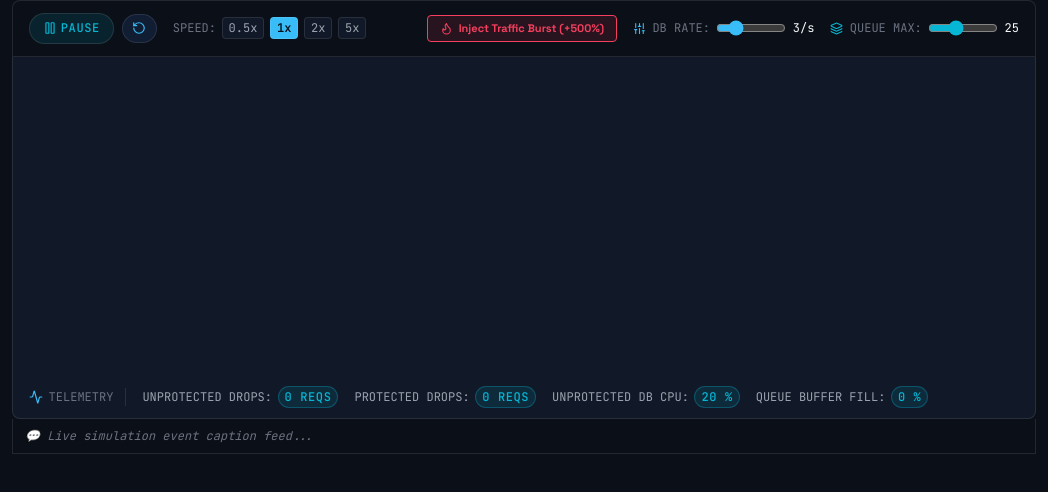
Test: LoadLevelingVisualizer (Catalog Viz #8) › handles Traffic Burst injection and updates telemetry
Click the button "Inject Traffic Burst (+500%)". click: (522, 28)
box: [427,15,617,42]
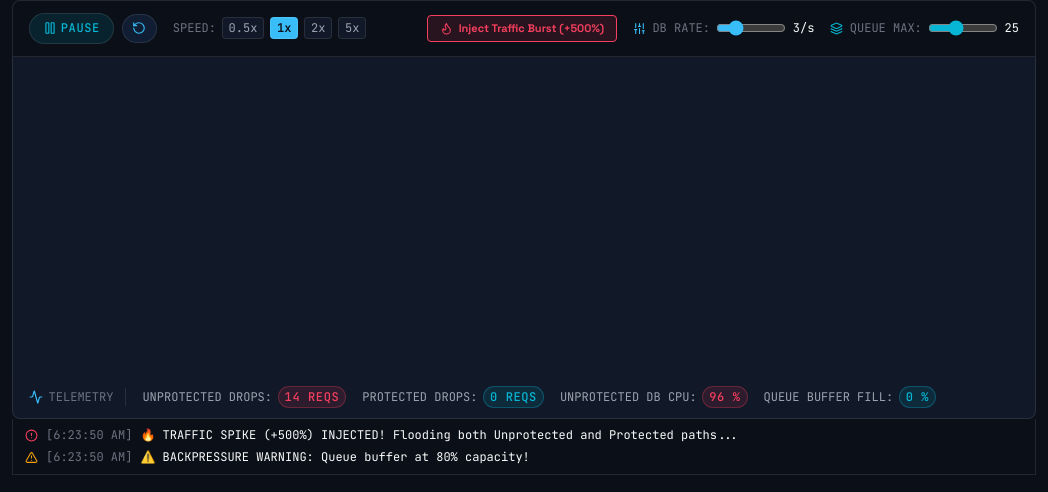
Expected: the text "TRAFFIC SPIKE (+500%) INJECTED" is shown, [140,427,739,443]
